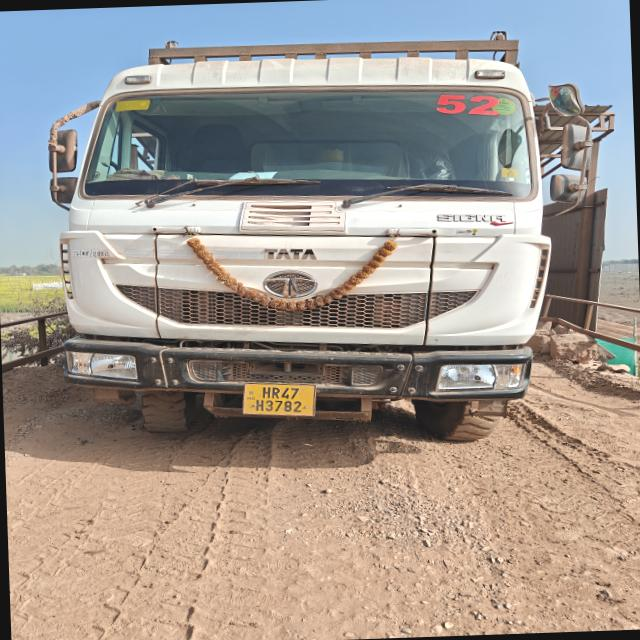license_plate: (243, 383, 316, 416)
